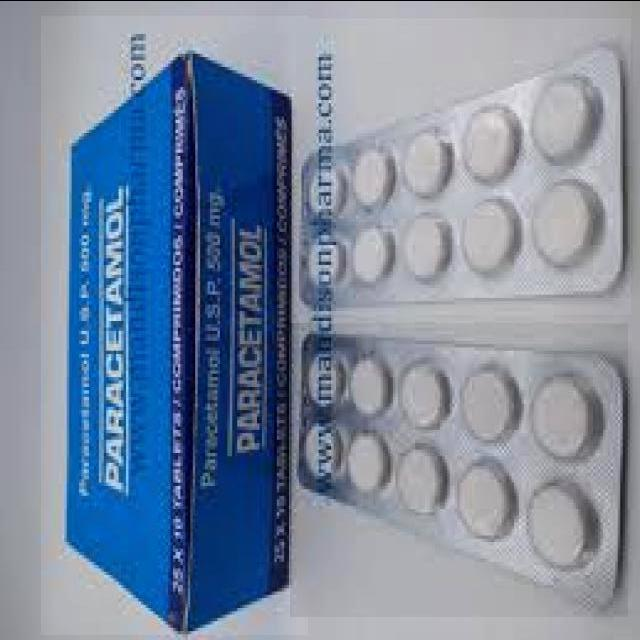authentic: (41, 15, 308, 634), (296, 17, 631, 314), (291, 322, 628, 616)
